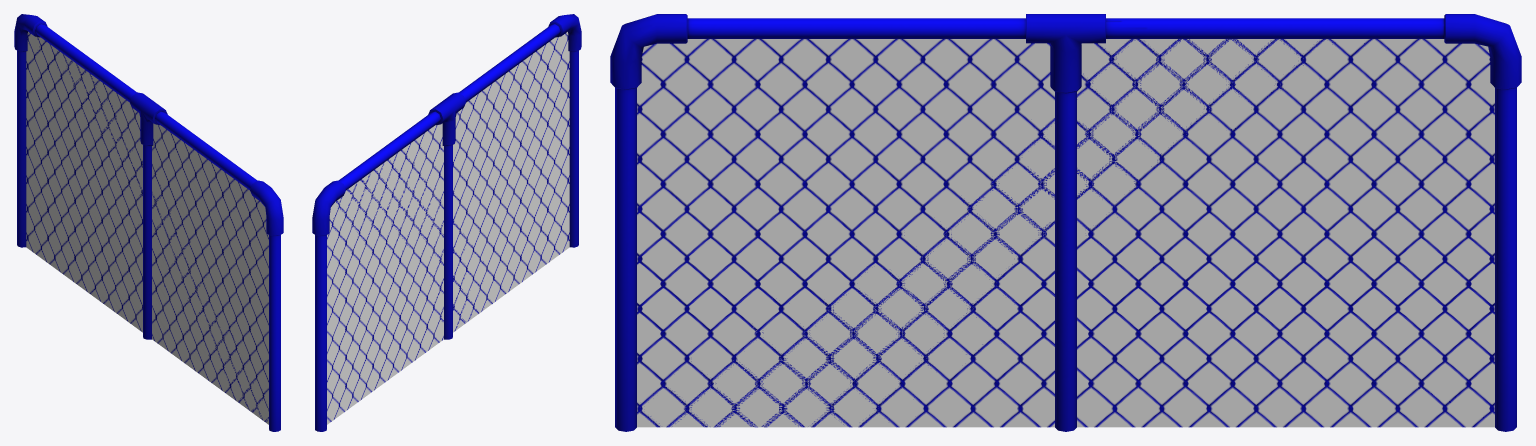
File: fence.fbx
The picture shows the model from 3 angles, left to right: view 1: azimuth 30°, elevation 25°; view 2: azimuth 150°, elevation 25°; view 3: azimuth 270°, elevation 25°; orthographic projection. The views are drawn at different scales.
Visible parts, largest first — view 1: wallfence, fence; view 2: wallfence, fence; view 3: wallfence, fence.
Part boxes in pixels (<box>): wallfence: <box>26,32,268,424</box>; fence: <box>14,14,283,431</box>; wallfence: <box>327,32,569,424</box>; fence: <box>312,14,581,431</box>; wallfence: <box>637,39,1494,427</box>; fence: <box>610,14,1521,431</box>.
Size of the model in its own units: 28.87 by 414 by 829.
